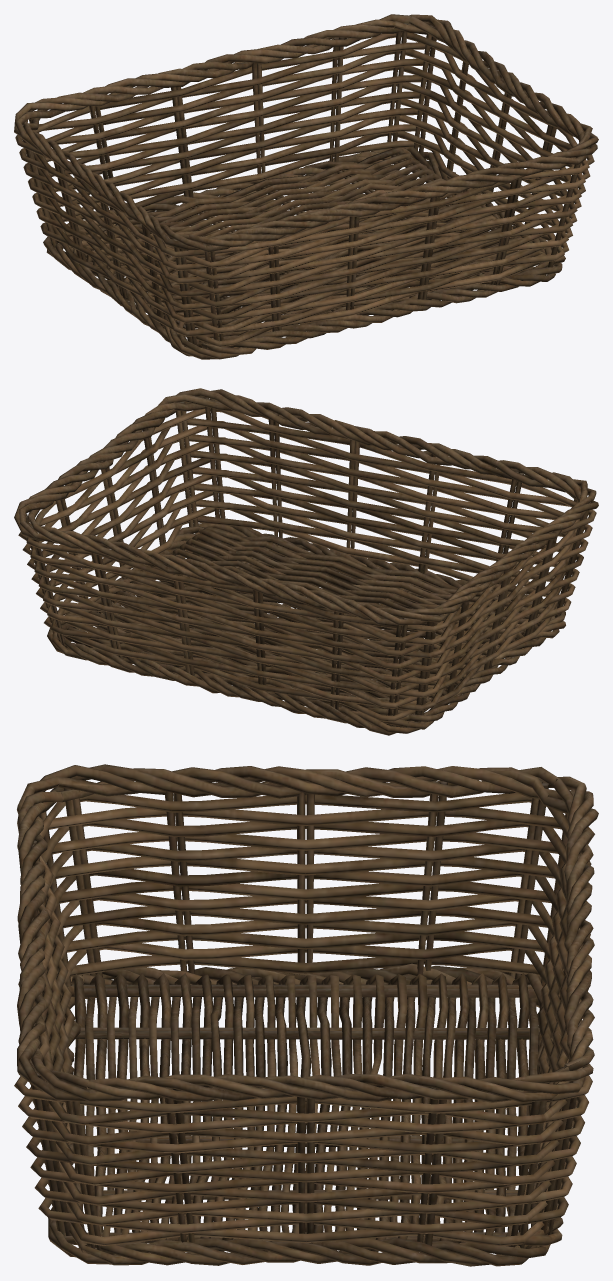
The model's file is wicker_basket_01.glb.
The picture shows the model from 3 angles, top to bottom: view 1: azimuth 30°, elevation 25°; view 2: azimuth 150°, elevation 25°; view 3: azimuth 270°, elevation 25°; orthographic projection. The views are drawn at different scales.
Visible parts, largest first — view 1: wicker_basket_01; view 2: wicker_basket_01; view 3: wicker_basket_01.
Part boxes in pixels (x1=…): wicker_basket_01: x1=14, y1=14, x2=598, y2=359; wicker_basket_01: x1=14, y1=388, x2=598, y2=735; wicker_basket_01: x1=14, y1=764, x2=598, y2=1266.
Size of the model in its own units: 0.3832 by 0.1175 by 0.2953.
Materials: 1 (1 with a texture image).
